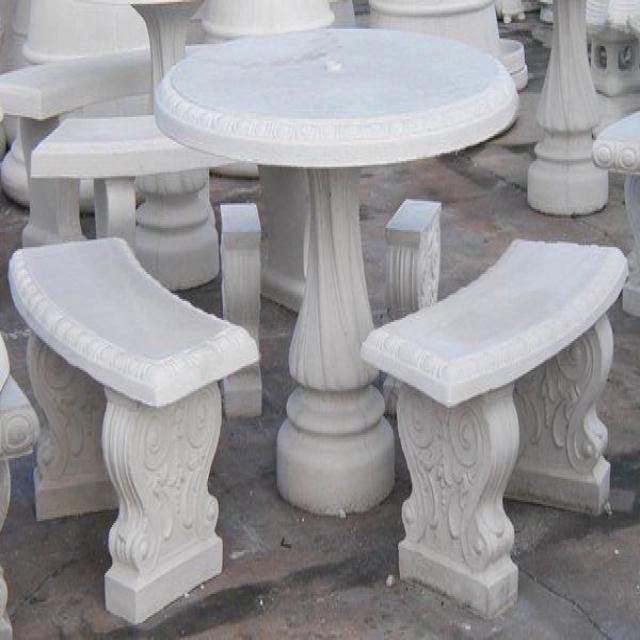Concrete: (34, 42, 640, 629)
